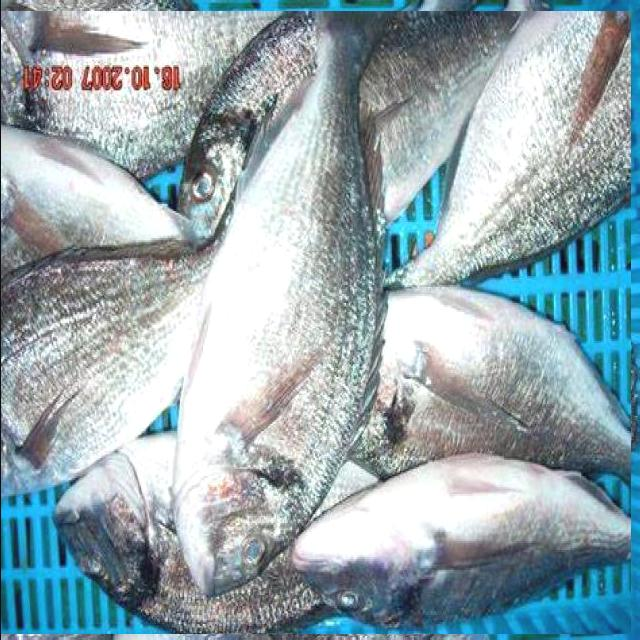Healthy Fish: (0, 7, 627, 636)
